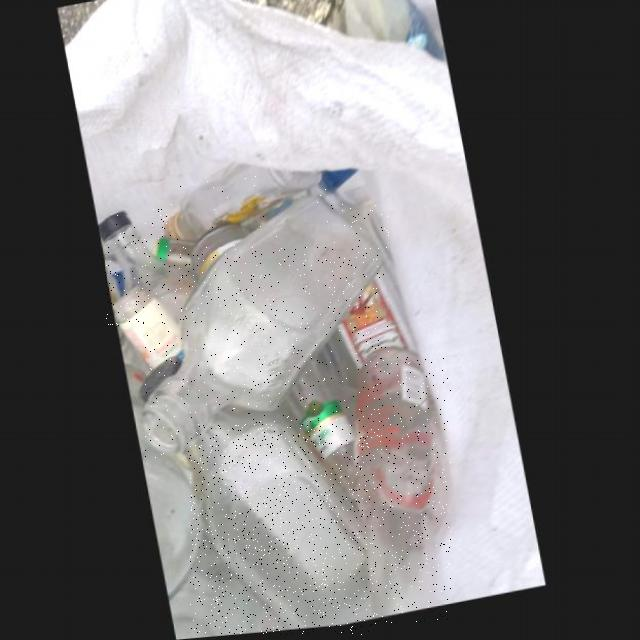glass: (146, 204, 389, 460), (190, 424, 375, 635), (359, 357, 451, 625), (173, 168, 330, 246), (106, 215, 203, 325)
